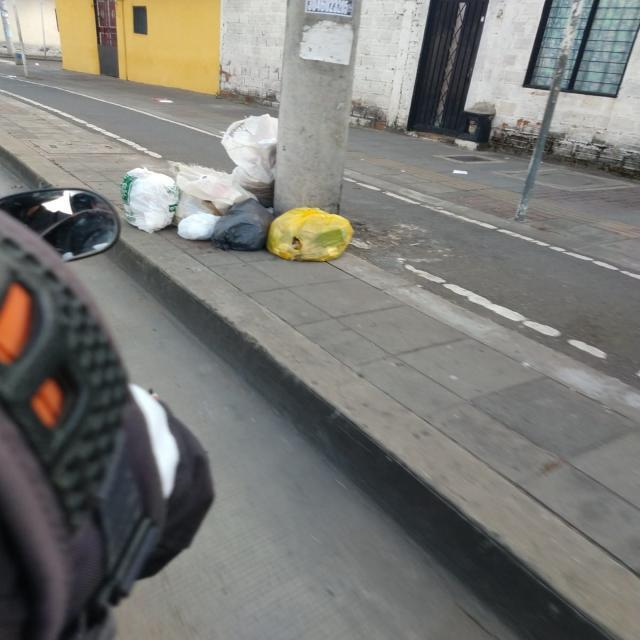Trashbag: (210, 194, 280, 256)
